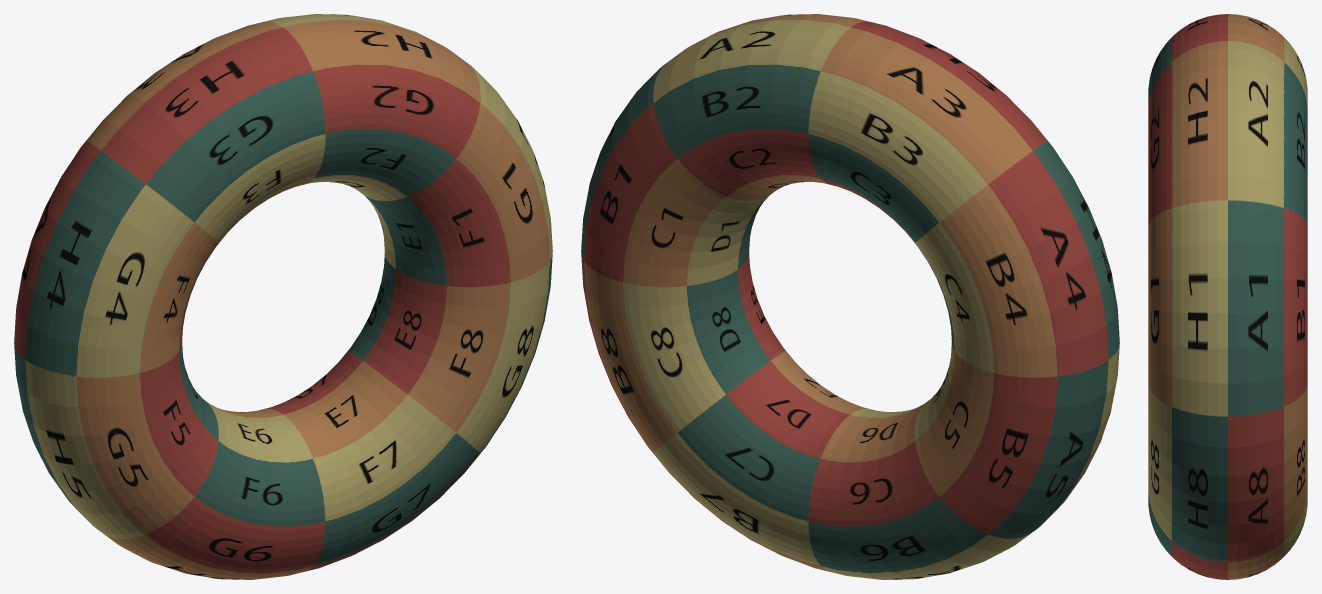
The model's file is texture_torus_R12_r19.glb.
The picture shows the model from 3 angles, left to right: view 1: azimuth 30°, elevation 25°; view 2: azimuth 150°, elevation 25°; view 3: azimuth 270°, elevation 25°; orthographic projection. The views are drawn at different scales.
Parts seen in each view (by area): view 1: world; view 2: world; view 3: world.
Boxes of the visible parts, x1=… form: world: x1=14, y1=14, x2=552, y2=579; world: x1=581, y1=14, x2=1119, y2=579; world: x1=1148, y1=14, x2=1307, y2=579.
Size of the model in its own units: 25.07 by 25.02 by 7.05.
1 material, 1 textured.
